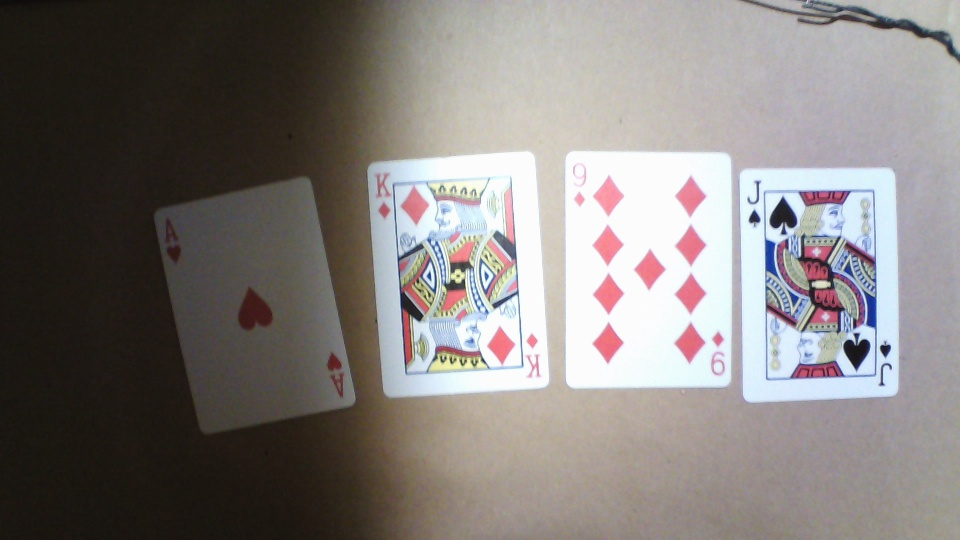ace: (150, 174, 358, 434)
jack: (739, 166, 899, 403)
king: (365, 150, 550, 399)
nine: (562, 145, 733, 387)
